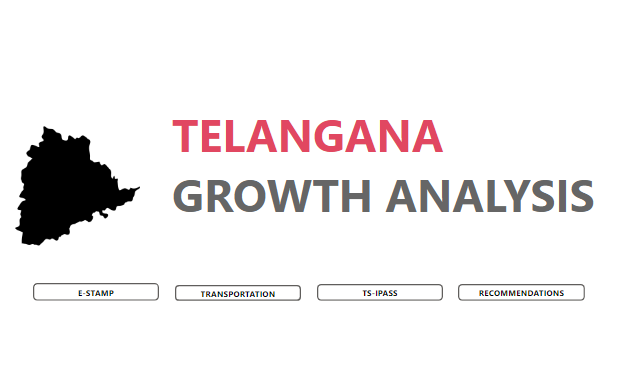

The page's visual inventory and layout, read from the dashboard file:
{"tool":"powerbi","page":{"name":"Home","canvas":[1600,1000],"ordinal":0},"visuals":[{"type":"textbox","box":[433.3,280,1031.1,404.4],"z":0},{"type":"image","box":[44.4,224.4,335.6,513.3],"z":1000},{"type":"actionButton","box":[106.7,712.2,300,42.2],"z":3000},{"type":"actionButton","box":[444.4,716.7,300,37.8],"z":4000},{"type":"actionButton","box":[782.2,714.4,300,40],"z":5000},{"type":"actionButton","box":[1120,714.4,302.2,40],"z":6000}]}

Visuals, with their boxes in screenshot pixels (x1, y1, x2, y2), scaled from the page's 1600x1000 canvas onto the 642x390 screenshot:
textbox: crop(174, 109, 588, 267)
image: crop(18, 88, 152, 288)
actionButton: crop(43, 278, 163, 294)
actionButton: crop(178, 280, 299, 294)
actionButton: crop(314, 279, 434, 294)
actionButton: crop(449, 279, 571, 294)
